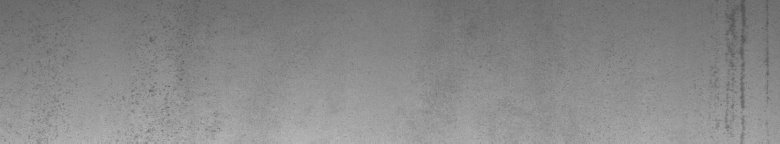ib: (112, 21, 222, 136)
